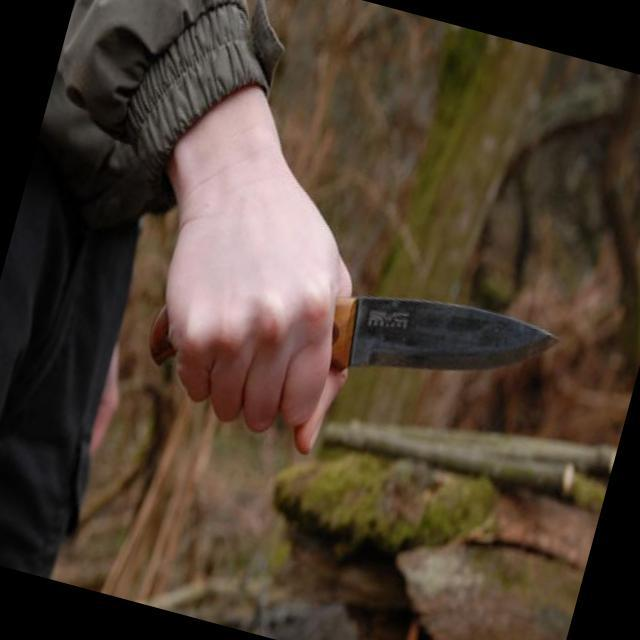Knife: (194, 220, 584, 513)
